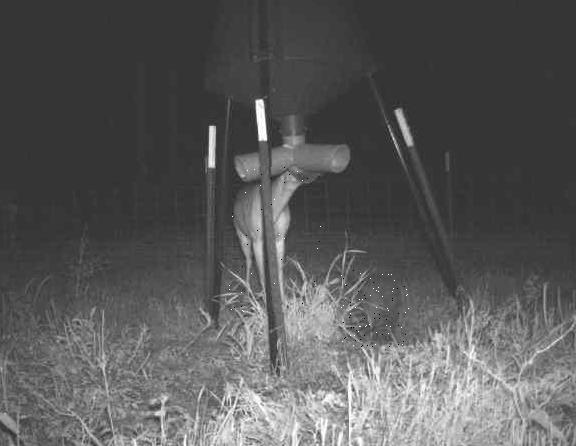Deer: (229, 167, 323, 312)
Raccoon: (339, 270, 409, 347)
